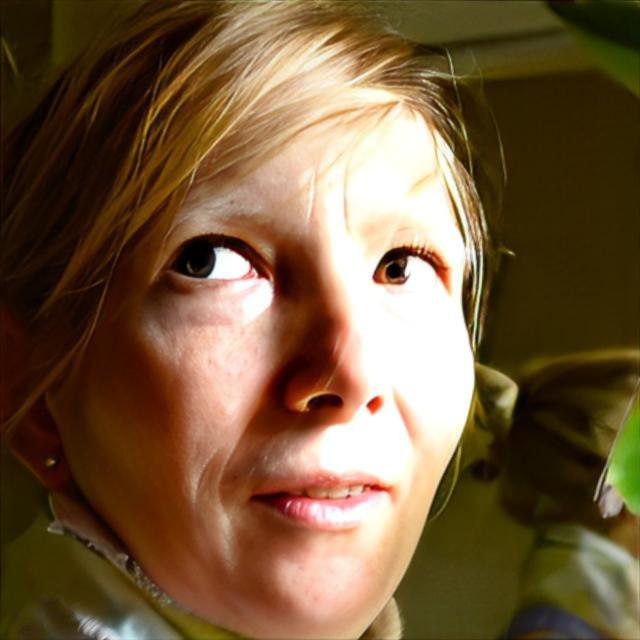surprise: (42, 93, 478, 640)
